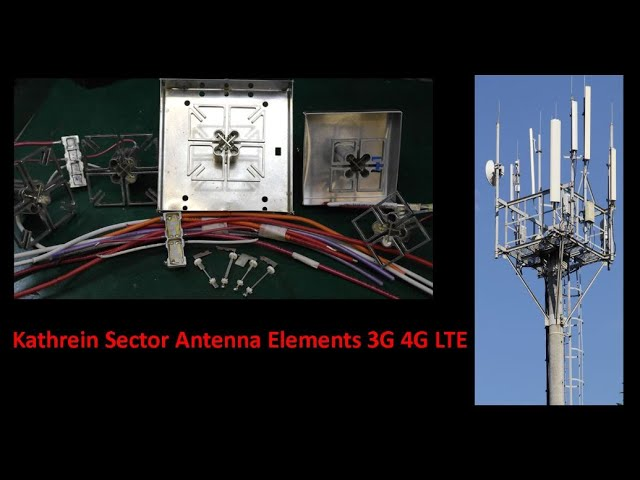sa: (543, 111, 563, 226), (600, 130, 620, 200), (585, 83, 594, 169)
